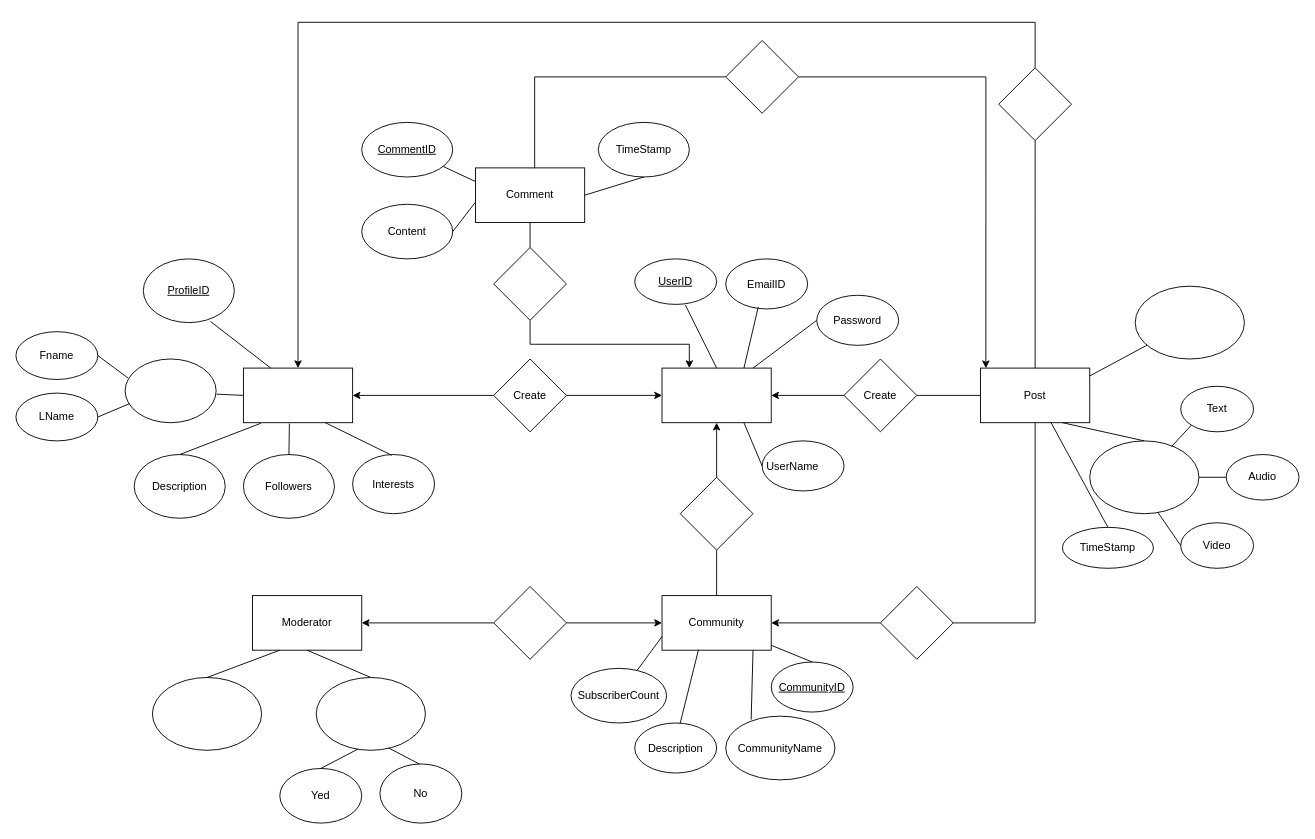
This 1315x839 diagram has some shape labels left out. The box of each missing label's shape, as (x1, y1, x2, y2) in pixels:
contains: (725, 40, 799, 113)
Has: (880, 586, 953, 659)
Indexes: (998, 67, 1072, 141)
manages: (493, 586, 566, 659)
ModeratorID: (152, 677, 262, 750)
Name: (124, 358, 216, 423)
Permissions: (315, 677, 425, 750)
PostID: (1134, 285, 1244, 359)
PostType: (1089, 440, 1199, 514)
Profile: (243, 367, 353, 423)
Subscribe: (679, 476, 753, 550)
User: (661, 367, 771, 423)
Write: (493, 247, 566, 320)
